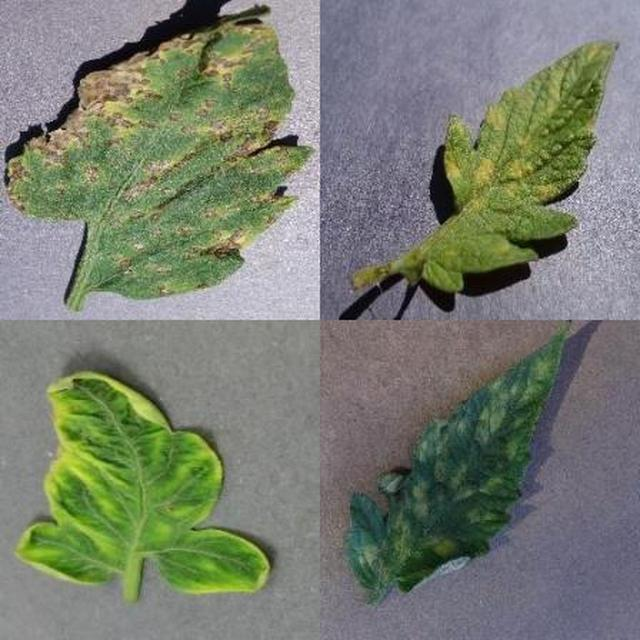Septoria Leaf: (204, 216, 640, 640)
